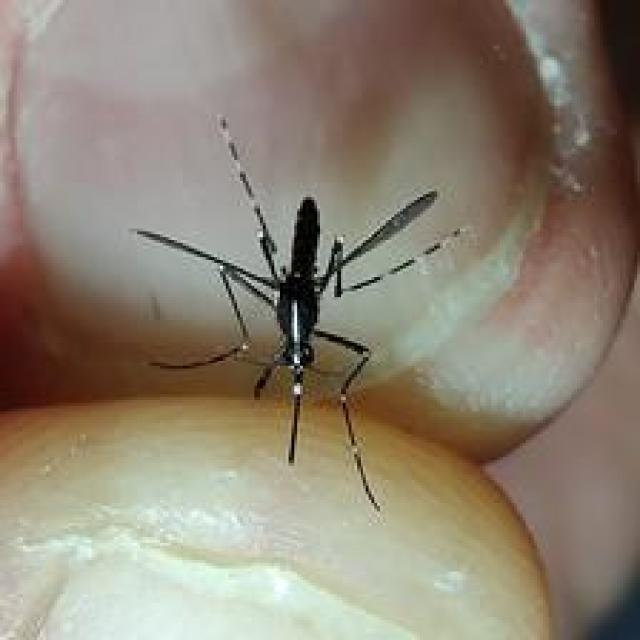Aedes albopictus: (128, 113, 468, 513)
